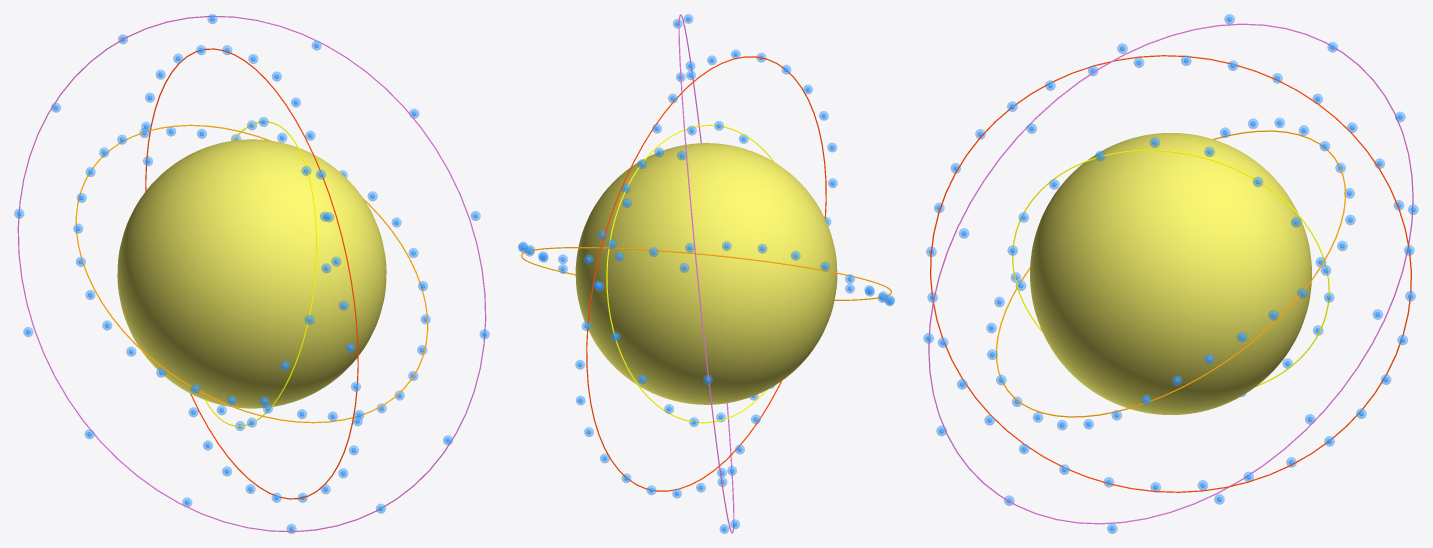
The picture shows the model from 3 angles, left to right: view 1: azimuth 30°, elevation 25°; view 2: azimuth 150°, elevation 25°; view 3: azimuth 270°, elevation 25°; orthographic projection. The views are drawn at different scales.
Visible parts, largest first — view 1: Sg, object 191, object 61, object 126, object 24; view 2: Sg, object 126, object 191, object 24, object 61; view 3: Sg, object 191, object 126, object 61, object 24.
Boxes of the visible parts, x1=… form: Sg: x1=117, y1=139, x2=386, y2=408; object 191: x1=17, y1=15, x2=486, y2=532; object 61: x1=75, y1=124, x2=428, y2=423; object 126: x1=145, y1=48, x2=358, y2=499; object 24: x1=205, y1=121, x2=317, y2=426; Sg: x1=575, y1=143, x2=837, y2=404; object 126: x1=586, y1=56, x2=826, y2=491; object 191: x1=678, y1=14, x2=734, y2=533; object 24: x1=606, y1=124, x2=774, y2=423; object 61: x1=521, y1=247, x2=891, y2=300; Sg: x1=1030, y1=133, x2=1311, y2=414; object 191: x1=928, y1=23, x2=1413, y2=524; object 126: x1=930, y1=55, x2=1411, y2=492; object 61: x1=996, y1=130, x2=1345, y2=417; object 24: x1=1012, y1=149, x2=1329, y2=386.
Bounding box in the file's own units: 6.12 × 8.37 × 7.41.
